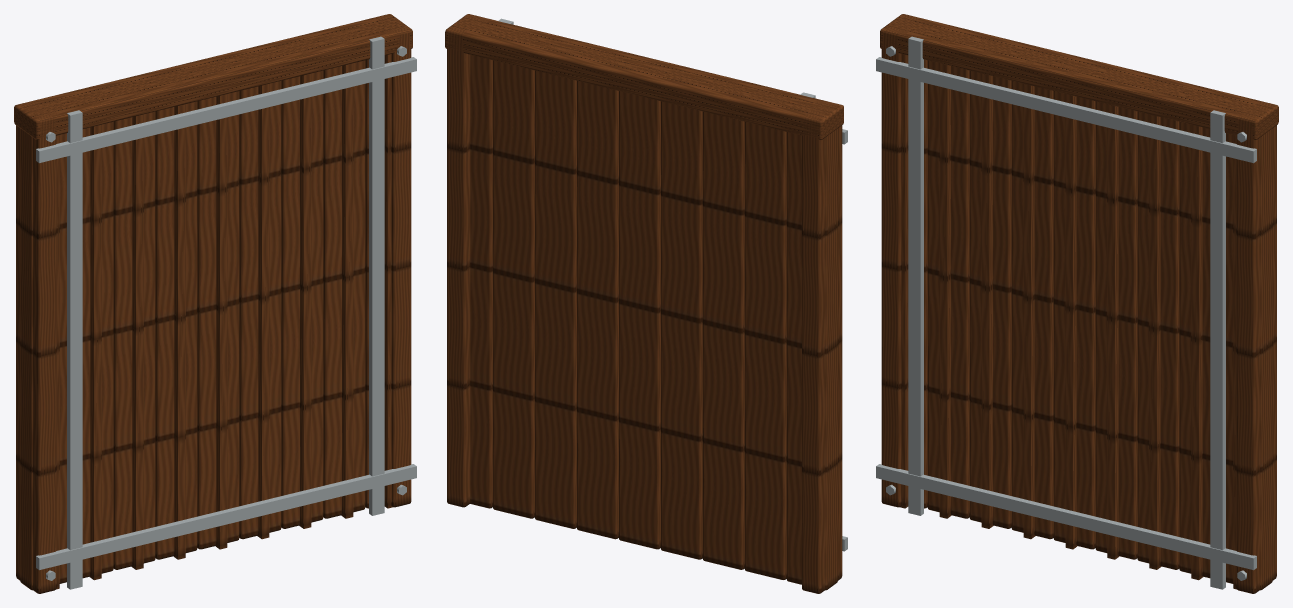
File: modular-survival-base-builder-wall-board-and-batten-re-416344e2__24301.glb
3 renders of one model, left to right at view 1: azimuth 30°, elevation 25°; view 2: azimuth 150°, elevation 25°; view 3: azimuth 330°, elevation 25°, orthographic.
Parts seen in each view (by area): view 1: wall-board-and-batten-reinforced; view 2: wall-board-and-batten-reinforced; view 3: wall-board-and-batten-reinforced.
Part boxes in pixels (box(x1,y1,x2,y2)): wall-board-and-batten-reinforced: box(14, 14, 416, 593); wall-board-and-batten-reinforced: box(445, 14, 847, 593); wall-board-and-batten-reinforced: box(876, 14, 1278, 593).
Size of the model in its own units: 2 by 2.4 by 0.2395.
2 materials, 1 textured.
